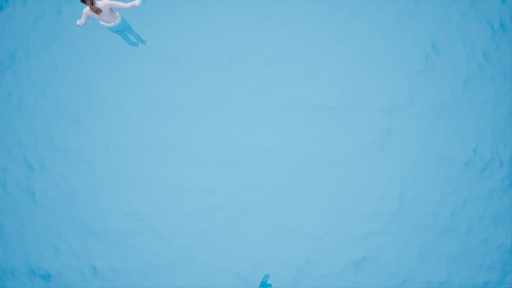person: (76, 1, 153, 53)
